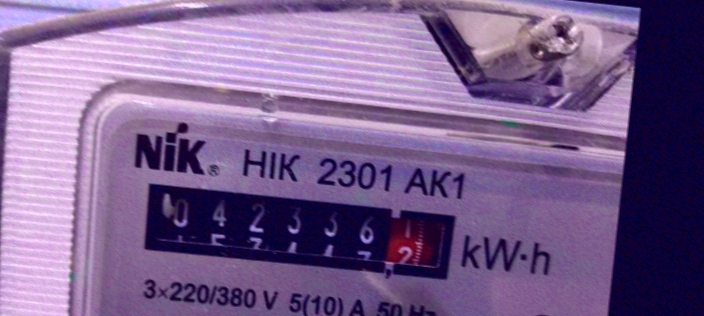0: (169, 194, 191, 229)
1: (399, 213, 414, 240)
2: (245, 198, 269, 234), (393, 243, 412, 266)
3: (282, 201, 303, 235), (321, 205, 341, 239)
4: (209, 194, 229, 228)
6: (355, 211, 378, 247)
screen: (127, 167, 470, 293)
